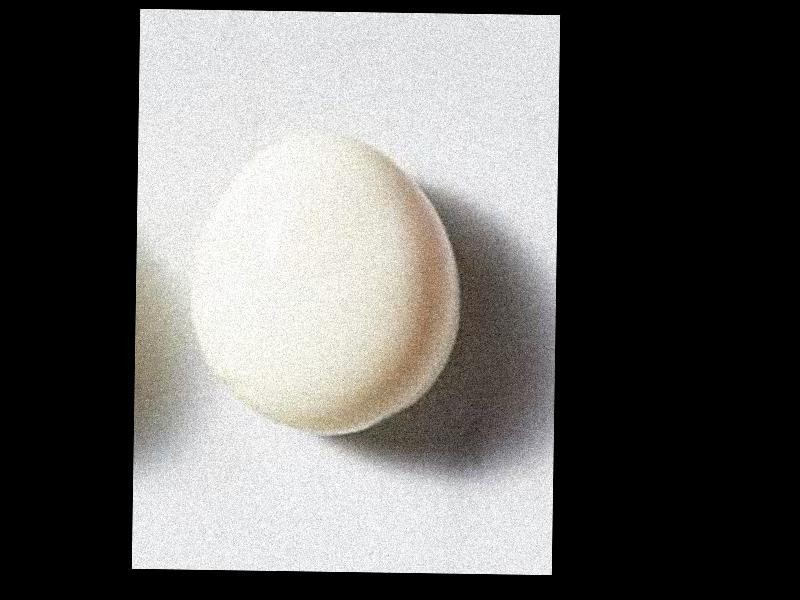Eggs: (189, 133, 462, 438)
